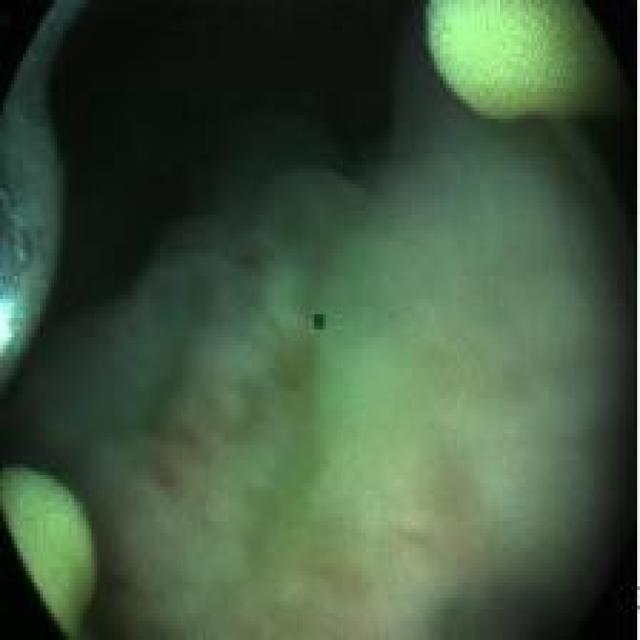color misalignment: (307, 307, 329, 334)
contrast: (54, 1, 412, 353), (601, 163, 636, 569), (450, 569, 636, 639), (0, 395, 115, 476), (89, 555, 156, 636)
instrument: (422, 1, 631, 131), (1, 1, 65, 390), (1, 466, 94, 639)
specularity: (1, 295, 15, 344)
